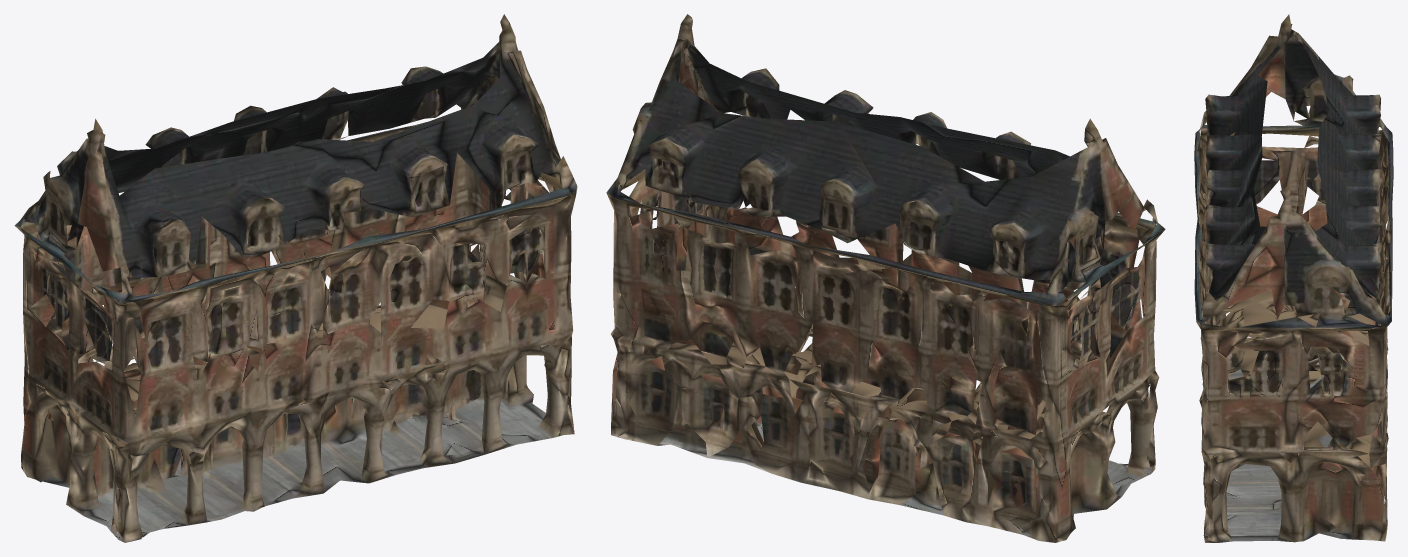
File: lille-bourse.glb
The picture shows the model from 3 angles, left to right: view 1: azimuth 30°, elevation 25°; view 2: azimuth 150°, elevation 25°; view 3: azimuth 270°, elevation 25°; orthographic projection. The views are drawn at different scales.
Visible parts, largest first — view 1: world; view 2: world; view 3: world.
Boxes of the visible parts, x1=… form: world: x1=14, y1=14, x2=577, y2=542; world: x1=606, y1=14, x2=1165, y2=542; world: x1=1194, y1=14, x2=1393, y2=542.
Size of the model in its own units: 1.24 by 1 by 0.5196.
Materials: 1 (1 with a texture image).
